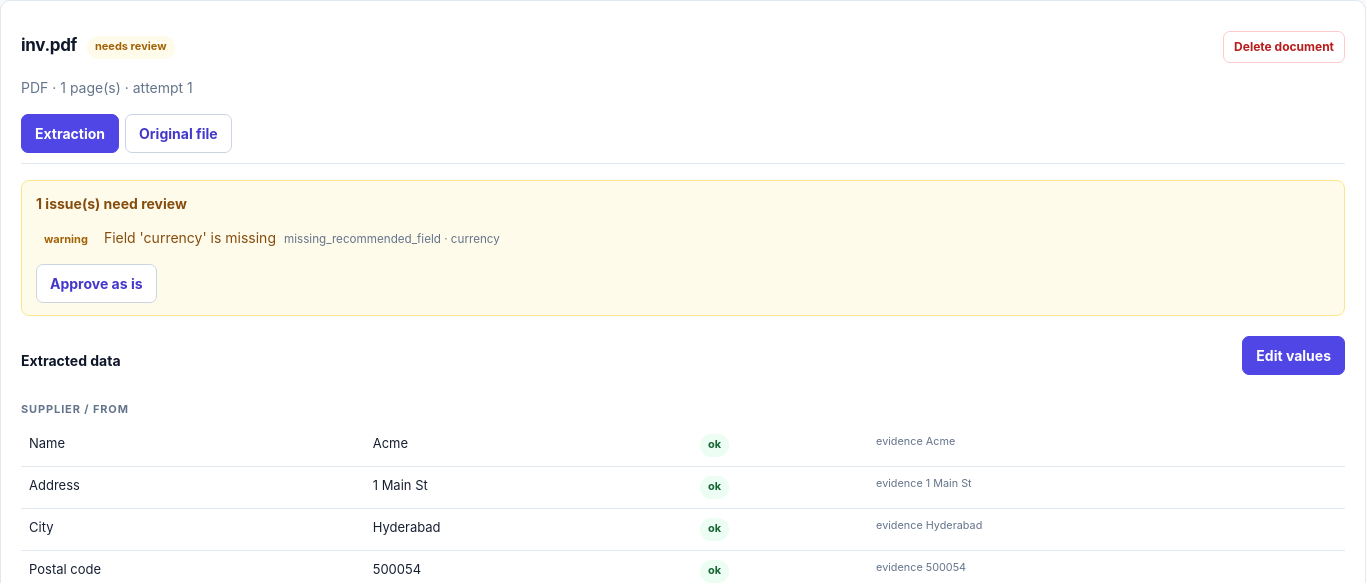
it: DocumentDetail › shows the server's validation message when a correction is rejected
Click the button "Edit values": [1294, 355] box [1242, 336, 1345, 375]
(page scrolled)
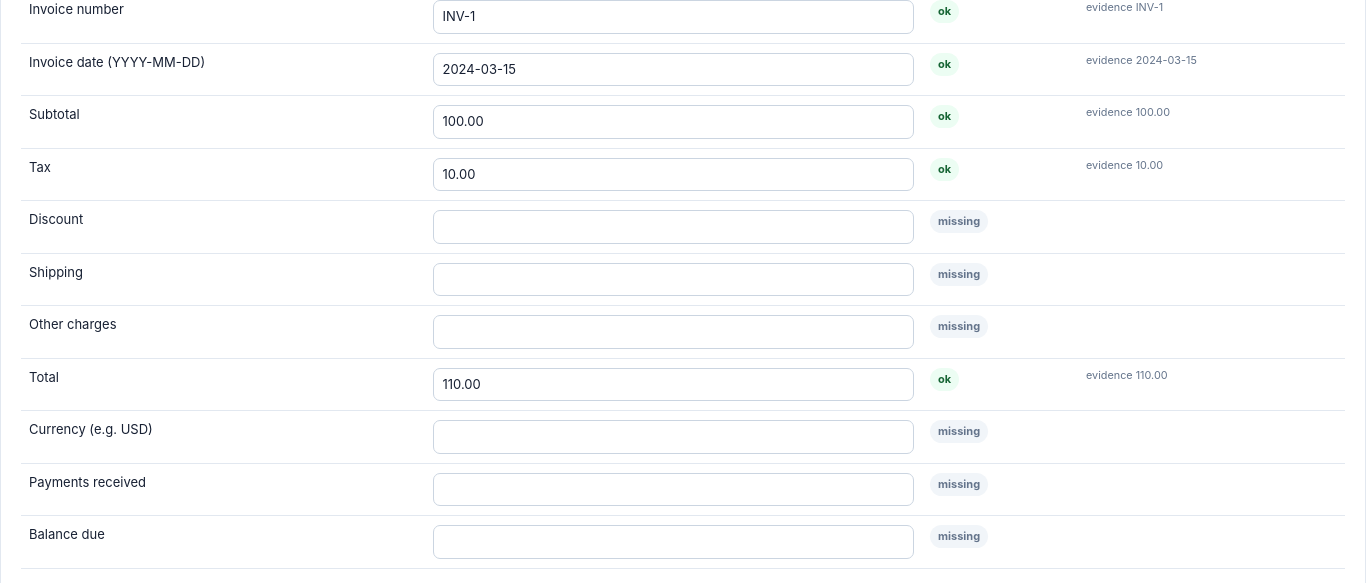
Replace the text in the field named "Total" with "abc": [674, 385] box [434, 368, 914, 402]
(page scrolled)
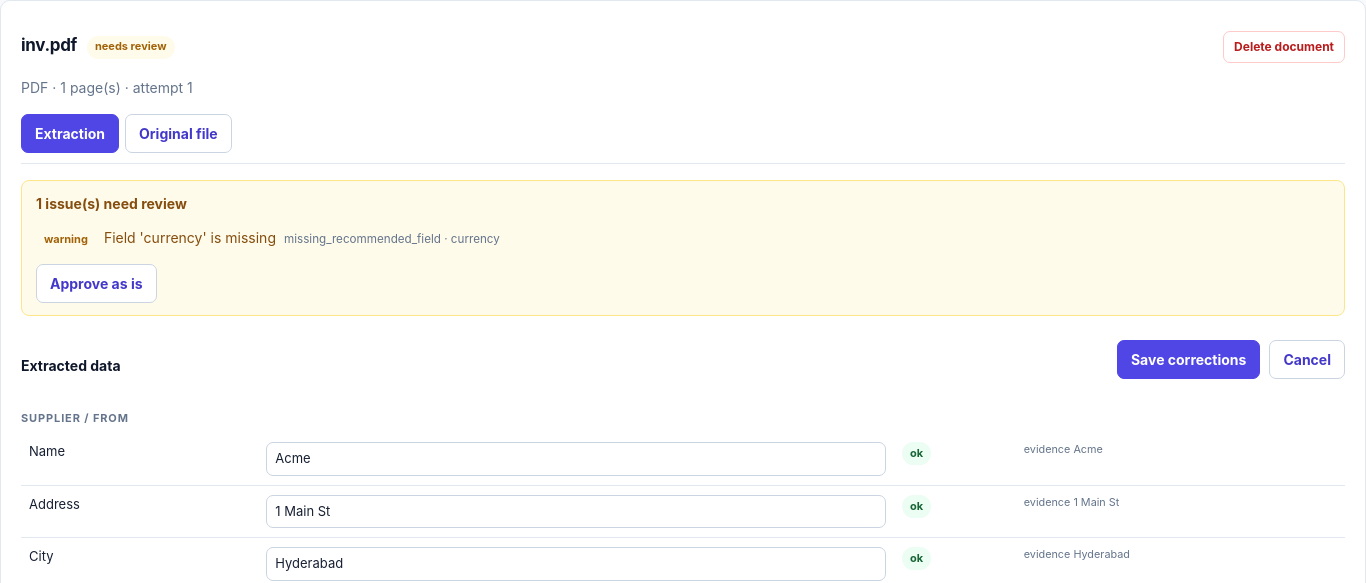
Click the button "Save corrections": [1189, 360] box [1117, 340, 1260, 379]
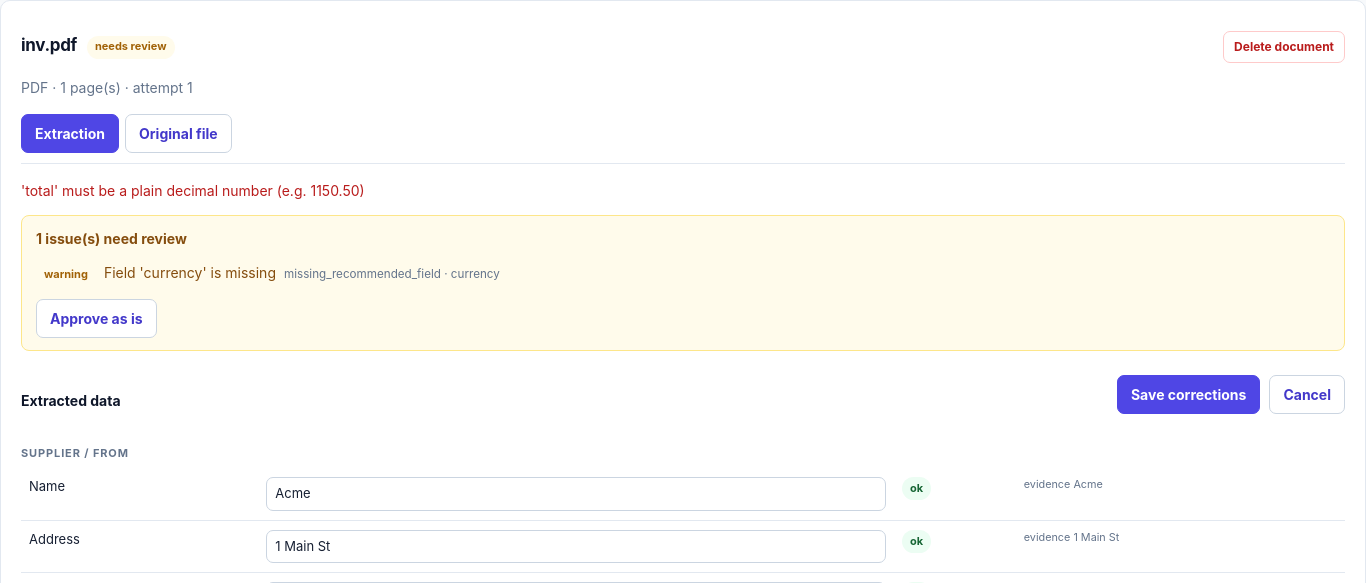
Check: the message shows "must be a plain decimal number", box [21, 182, 365, 199]
